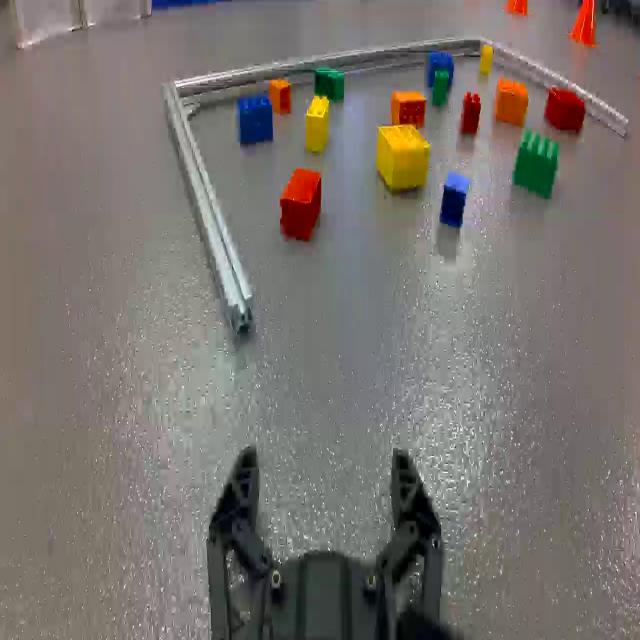block: (374, 123, 428, 193), (305, 97, 332, 149), (481, 48, 493, 77)
blue: (230, 99, 276, 145), (441, 173, 470, 230), (424, 48, 456, 76)
cone: (568, 0, 599, 44), (504, 0, 532, 24)
green: (517, 129, 556, 195), (315, 70, 345, 103), (434, 75, 448, 108)
orange: (496, 72, 528, 132), (384, 89, 428, 128), (270, 81, 292, 119), (271, 75, 292, 112)
red goal: (281, 162, 321, 244), (541, 87, 585, 135), (462, 92, 480, 140)
storage cube: (156, 30, 575, 331), (8, 0, 84, 41), (82, 0, 152, 25)
